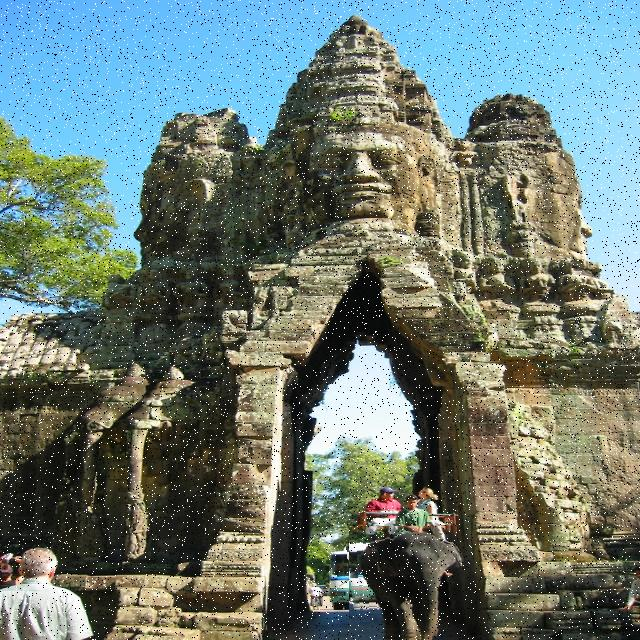elephant: (349, 526, 465, 640)
